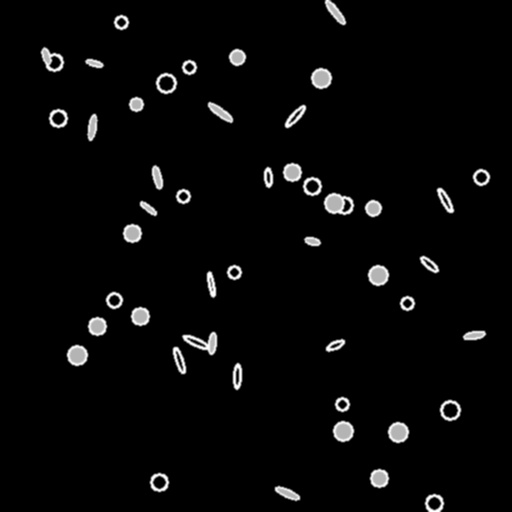pseudomonas: (283, 104, 307, 128), (207, 101, 233, 123), (324, 0, 346, 25), (182, 333, 210, 351), (436, 186, 454, 214), (275, 485, 299, 501), (172, 347, 186, 373), (419, 255, 439, 273), (139, 200, 157, 216), (151, 165, 163, 189), (325, 338, 345, 352), (206, 271, 216, 297), (87, 115, 97, 139), (40, 47, 52, 65), (207, 333, 217, 353), (464, 330, 484, 340), (233, 364, 241, 388), (85, 58, 103, 68), (304, 236, 320, 246), (264, 168, 272, 186)
synechocystis: (441, 401, 459, 419), (312, 69, 330, 87), (325, 194, 343, 212), (68, 346, 86, 364), (389, 423, 407, 441), (157, 74, 175, 92), (334, 422, 352, 440), (369, 266, 387, 284), (336, 197, 352, 213), (304, 178, 320, 194), (426, 495, 442, 511), (132, 308, 148, 324), (124, 225, 140, 241), (50, 110, 66, 126), (371, 470, 387, 486), (89, 318, 105, 334), (151, 474, 167, 490), (284, 164, 300, 180), (46, 54, 62, 70), (474, 170, 488, 184), (107, 293, 121, 307), (366, 201, 380, 215), (230, 50, 244, 64), (115, 16, 127, 28), (401, 297, 413, 309), (183, 61, 195, 73), (130, 98, 142, 110), (228, 266, 240, 278), (336, 398, 348, 410), (177, 190, 189, 202)
